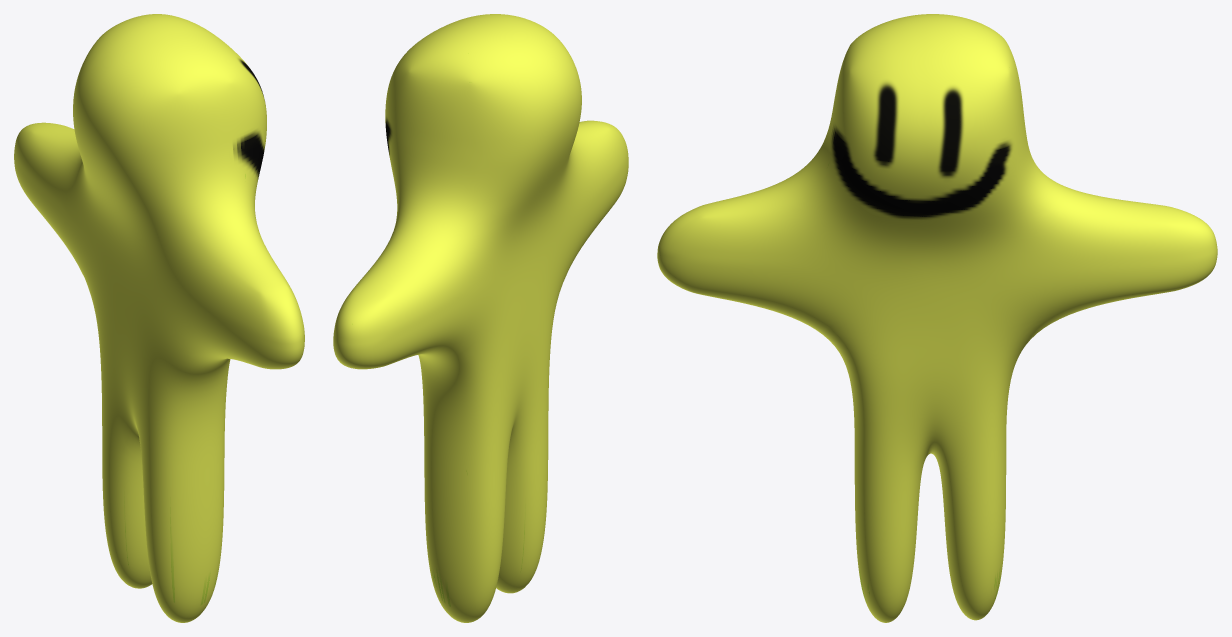
File: real.obj
3 renders of one model, left to right at view 1: azimuth 30°, elevation 25°; view 2: azimuth 150°, elevation 25°; view 3: azimuth 270°, elevation 25°, orthographic. The views are drawn at different scales.
Visible parts, largest first — view 1: Cube; view 2: Cube; view 3: Cube.
Boxes of the visible parts, bbox=[...] form: Cube: bbox=[14, 14, 304, 622]; Cube: bbox=[333, 14, 628, 622]; Cube: bbox=[657, 14, 1217, 622].
Bounding box in the file's own units: 2.49 × 8.37 × 7.14.
